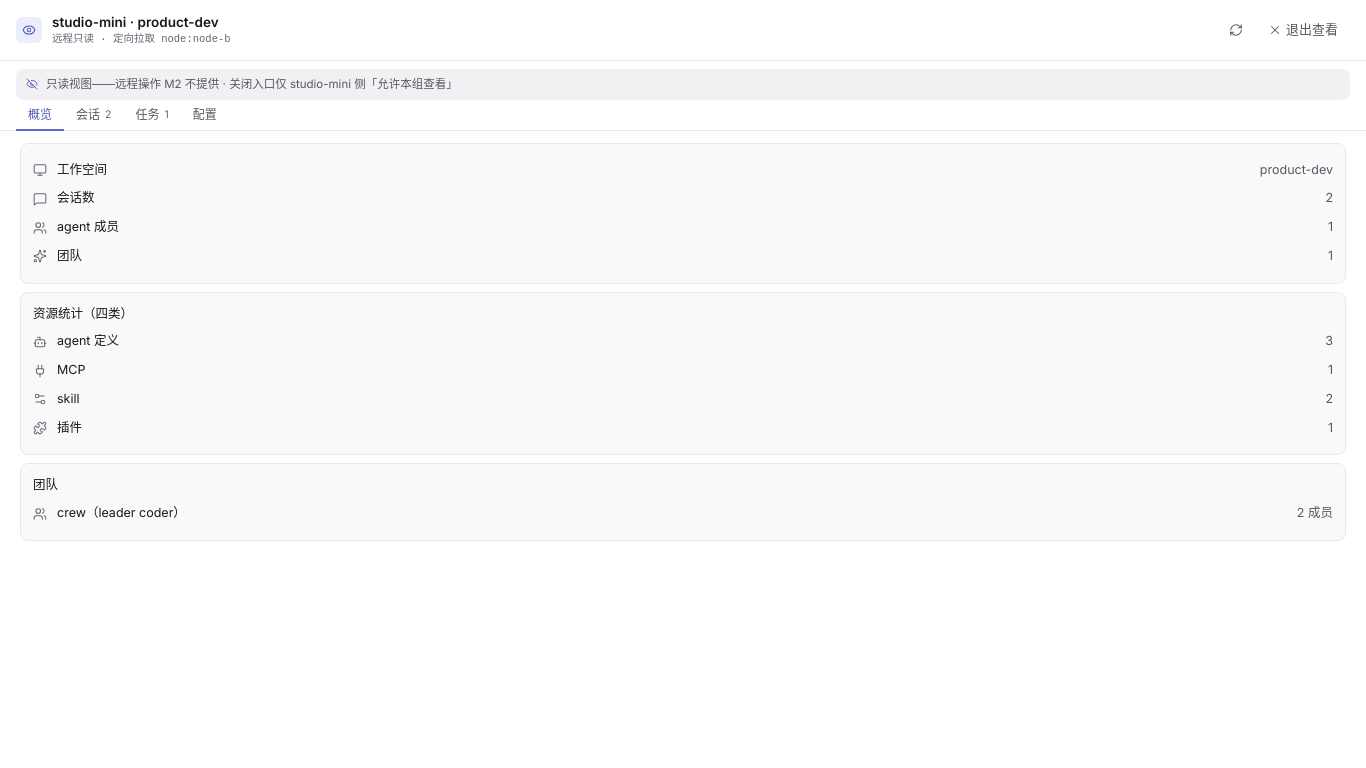
Test: RemoteViewPane 打开与四页签 › 任务页 tcard：mono #T-id + 状态徽标（来源标注 RM-M21-7 登记表接入前不编造）
Expected: the tab "会话 2" is shown, top-left (64, 100), bottom-right (123, 131)
What coordinates should you click on to do the following:
click the tab "任务 1"
I would click on:
 (152, 115)
Its box is top-left (123, 100), bottom-right (181, 131).
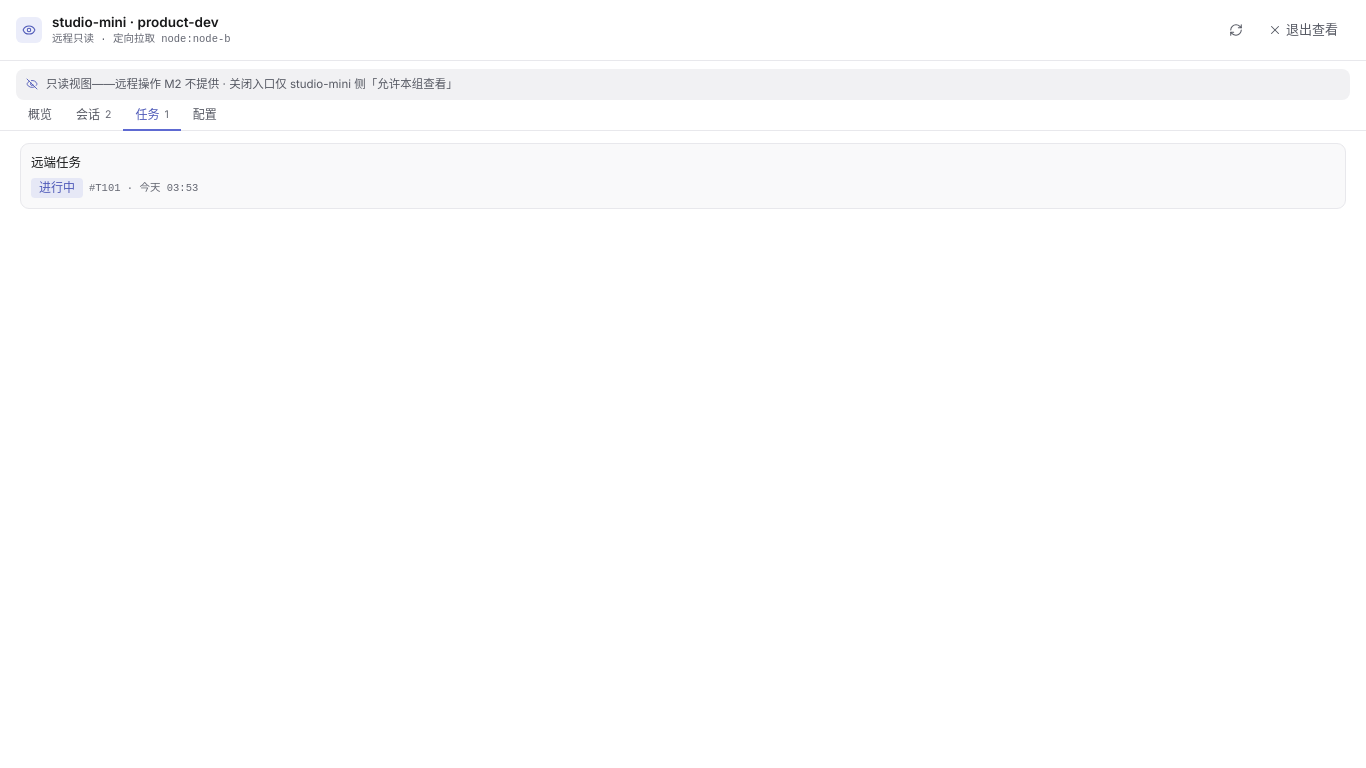
Now the text "远端任务" is shown, box top-left (31, 155), bottom-right (81, 170)
Now the text "#T101 · 今天 03:53" is shown, box top-left (89, 181), bottom-right (198, 196)
